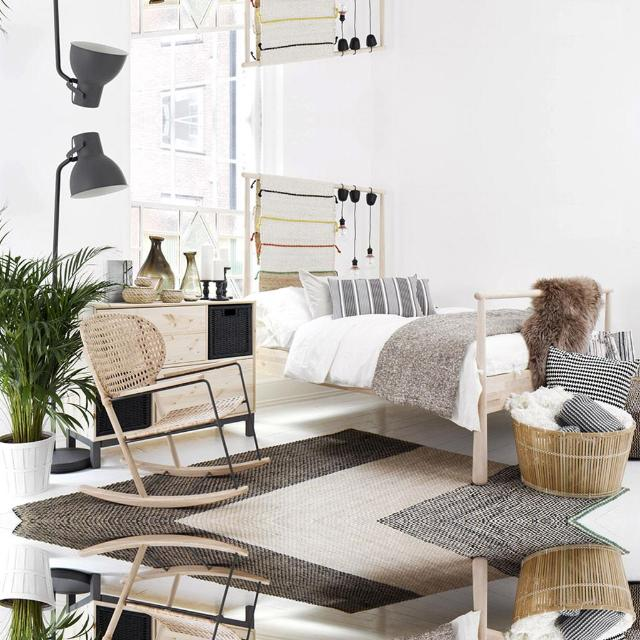armchair: (80, 313, 269, 508), (80, 534, 269, 640)
bed: (242, 173, 610, 484)
lamp: (52, 132, 128, 258), (53, 0, 128, 106)
pillow: (328, 277, 422, 317)
plant: (0, 246, 110, 495), (0, 546, 80, 640)
rug: (14, 429, 614, 520), (14, 522, 614, 613), (144, 474, 230, 494), (144, 548, 230, 568)
